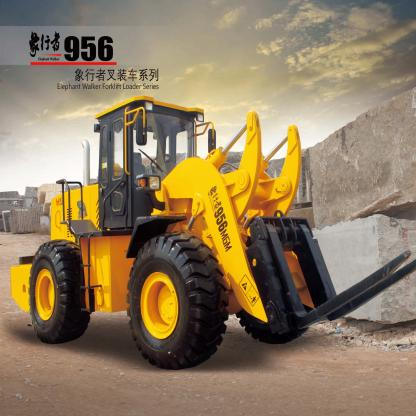bull_dozer/loader/grader: (8, 89, 416, 370)
